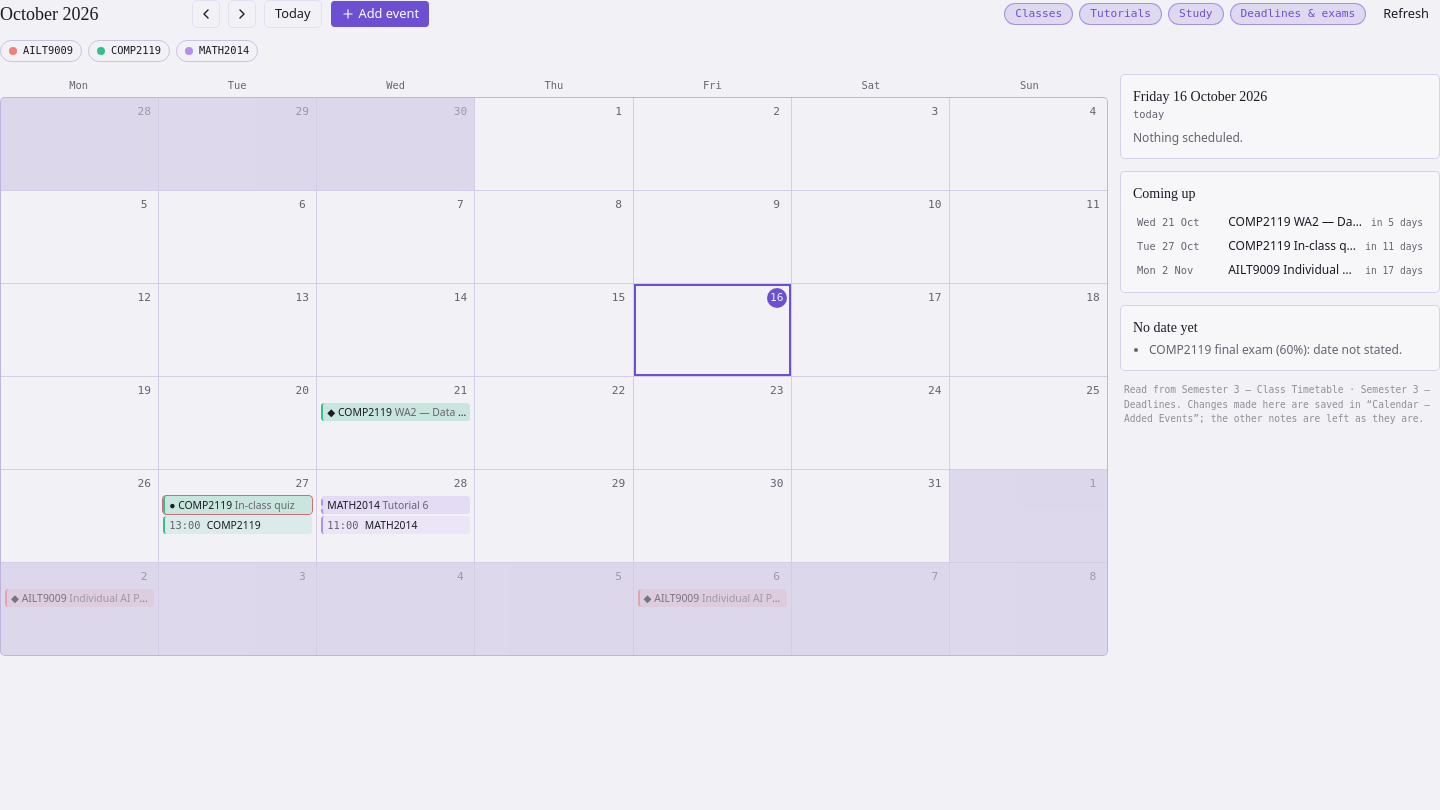
it: CalendarPanel › editing the calendar › will not submit without a title
Expected: the element with test id "calendar-grid" is shown, top-left (0, 97), bottom-right (1108, 656)
Expected: the text "Read from" is shown, top-left (1124, 384), bottom-right (1182, 395)
Click the button with test id "add-event" at point(380, 14), box top-left (330, 0), bottom-right (430, 28)
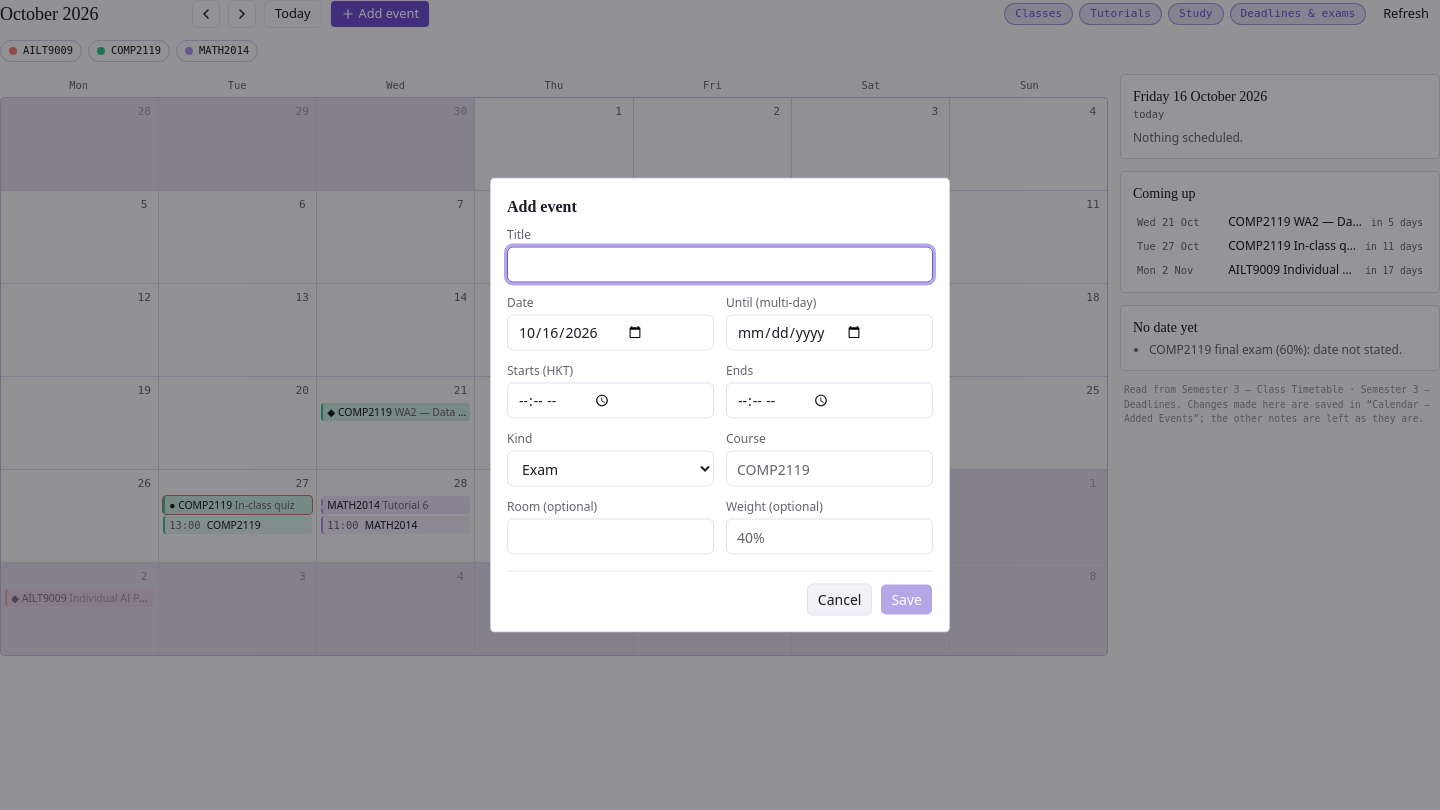
Expected: the field labelled "Title" is shown, top-left (507, 246), bottom-right (933, 282)
Expected: the button "Save" is disabled, top-left (880, 584), bottom-right (933, 616)
